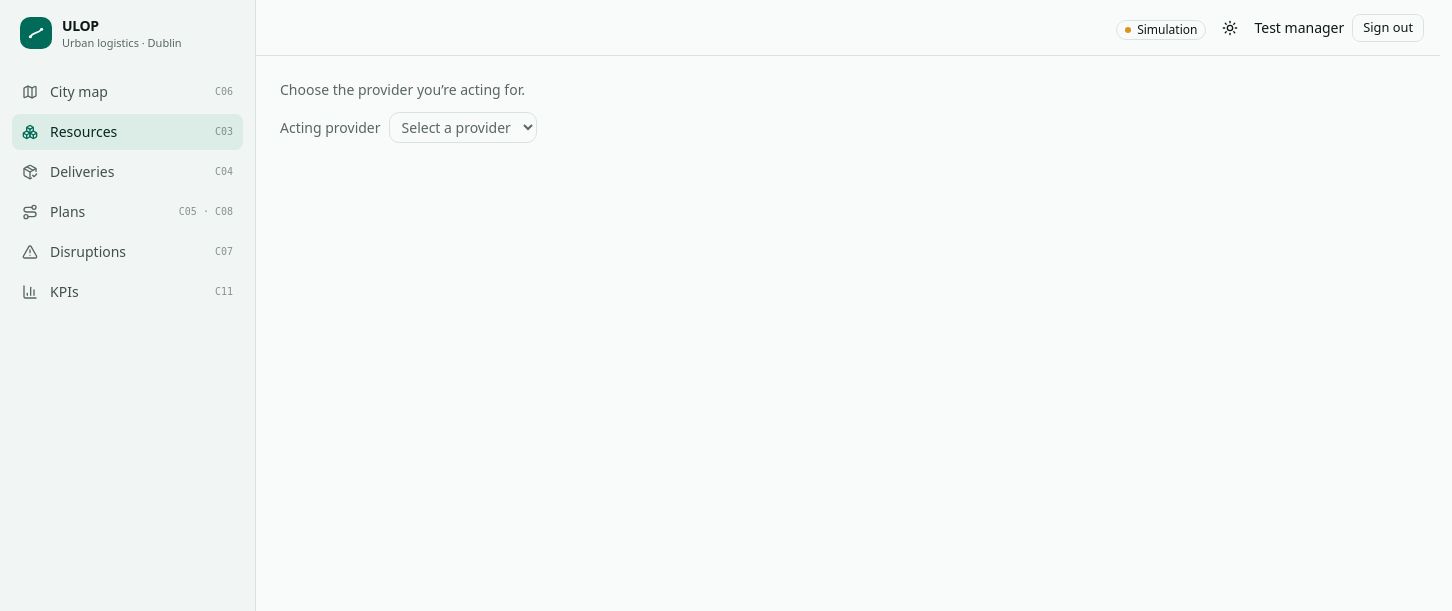
Scenario: Resources page provider switching › ignores a slow response from the previous identity
Select "Provider A" in the dropdown labelled "Acting provider" at {"x": 463, "y": 128}, box [389,112,537,143]
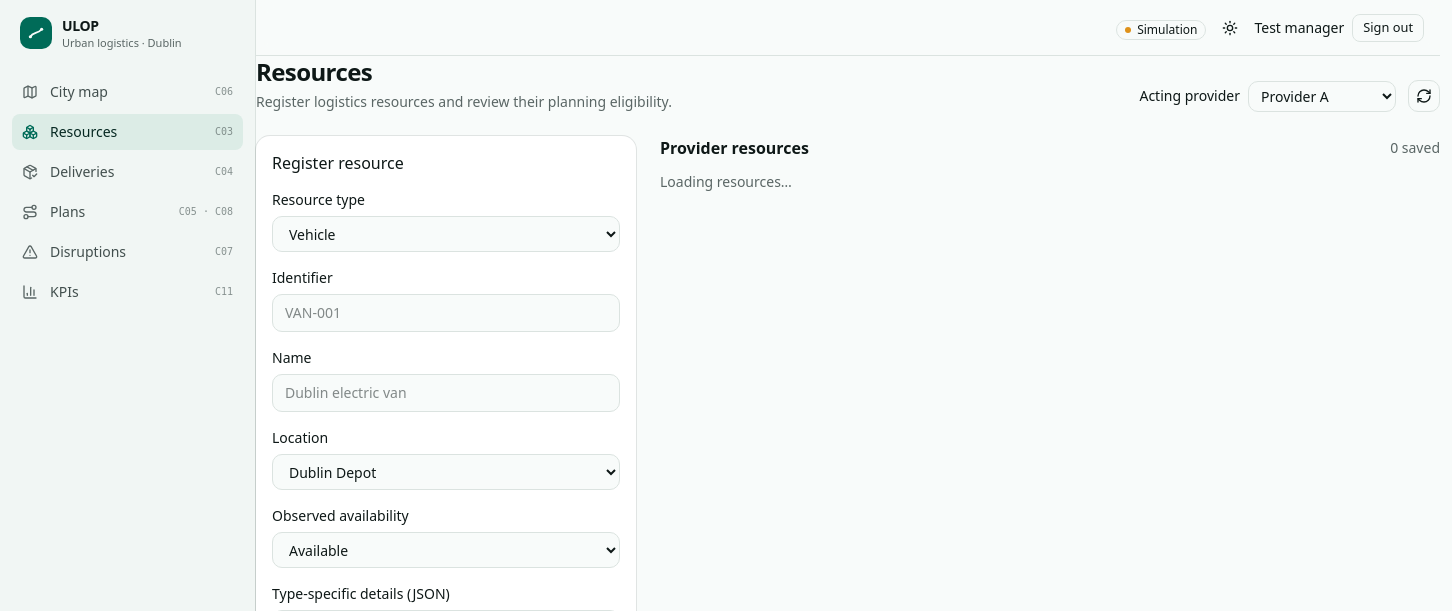
Select "Provider B" in the dropdown labelled "Acting provider" at {"x": 1322, "y": 96}, box [1248,80,1396,112]
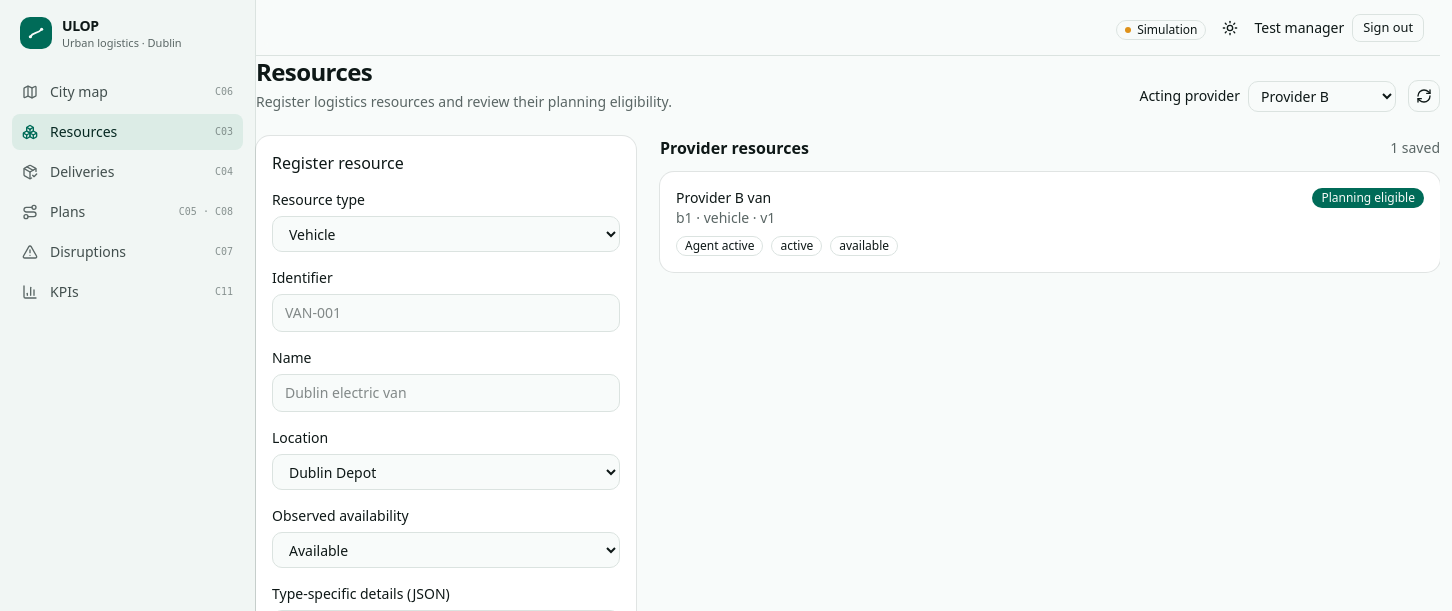
expect the text "Provider B van" is shown: met, box [676,188,775,208]
